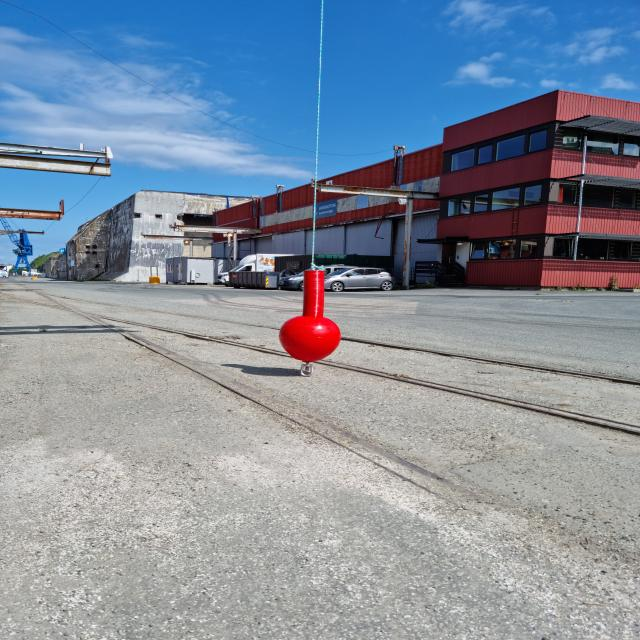red: (280, 270, 341, 362)
